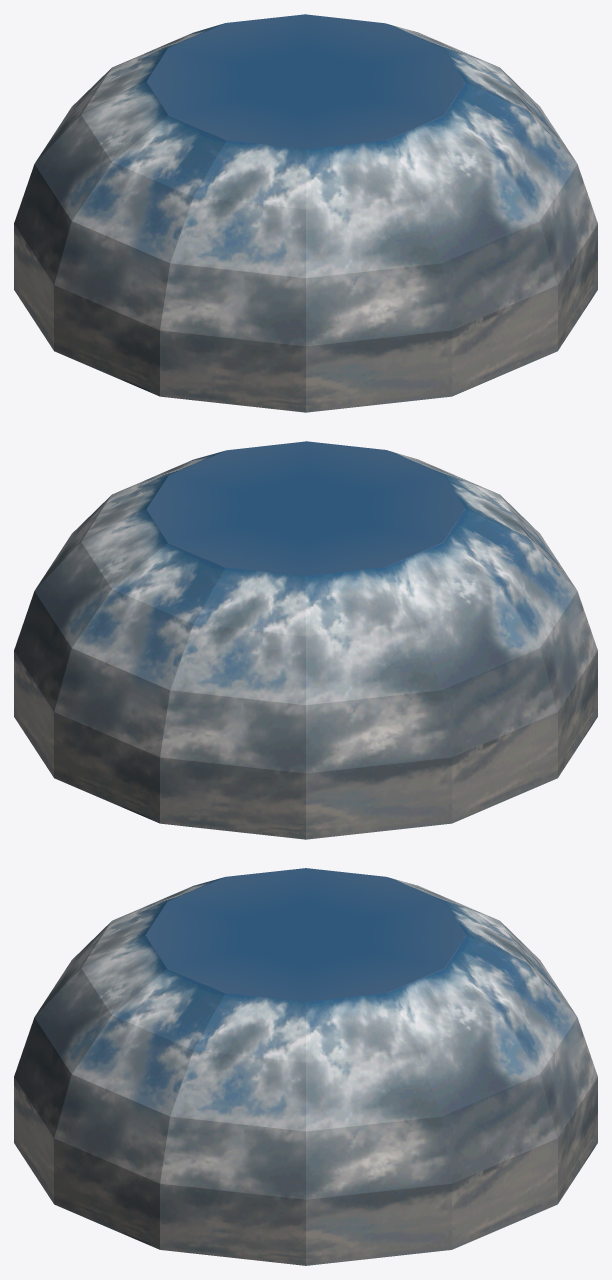
The picture shows the model from 3 angles, top to bottom: view 1: azimuth 30°, elevation 25°; view 2: azimuth 150°, elevation 25°; view 3: azimuth 270°, elevation 25°; orthographic projection.
Visible parts, largest first — view 1: mesh00; view 2: mesh00; view 3: mesh00.
Boxes of the visible parts, box(x1,y1,x2,y2) form: mesh00: box(14, 14, 597, 412); mesh00: box(14, 441, 597, 839); mesh00: box(14, 868, 597, 1265).
Bounding box in the file's own units: 59757 × 23582 × 60000.
2 materials, 2 textured.
